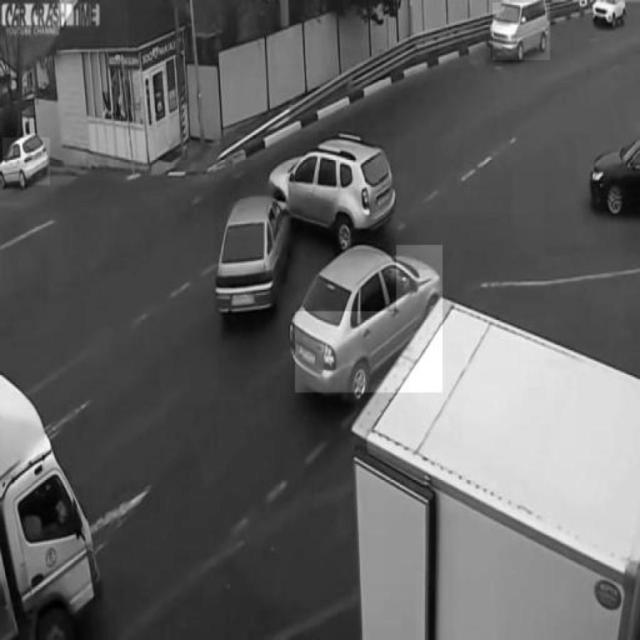accident: (214, 131, 396, 311)
vehicle: (296, 245, 443, 392), (492, 3, 550, 60), (2, 138, 50, 185)
